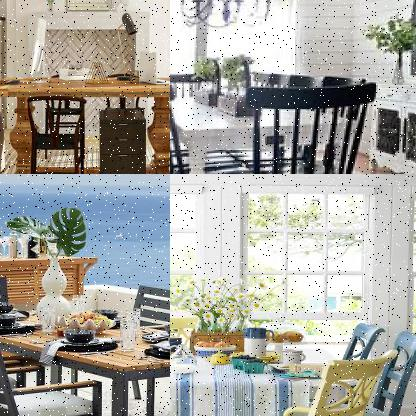table: (0, 298, 169, 415), (0, 66, 169, 173), (170, 87, 362, 173), (170, 341, 361, 415)
